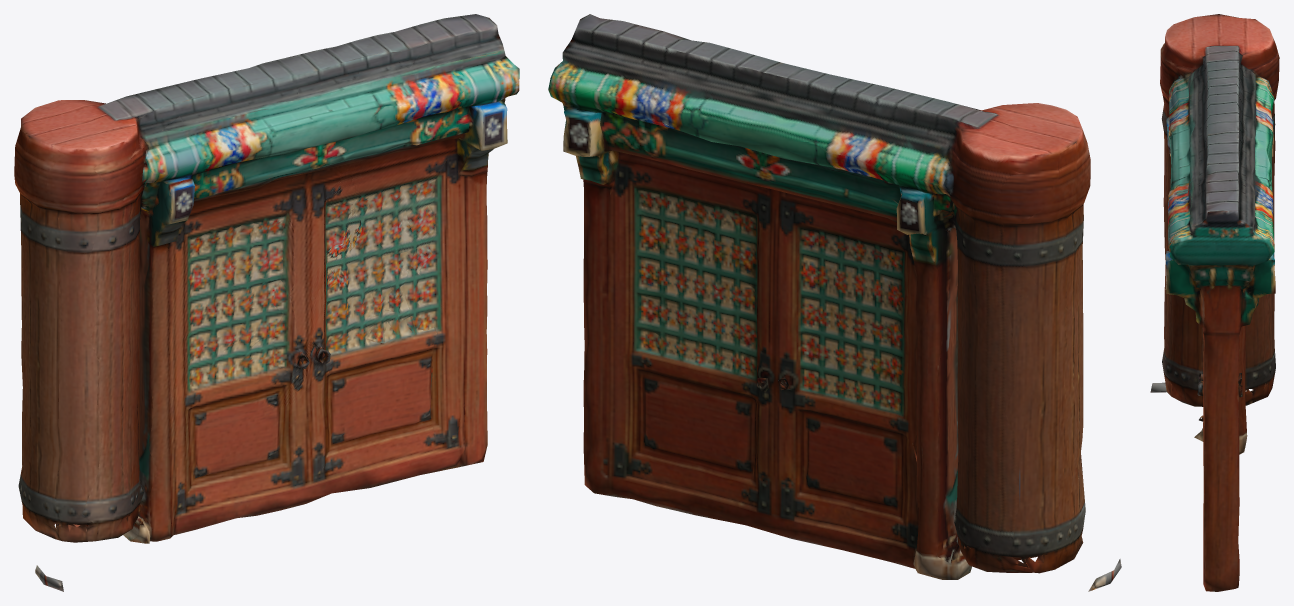
Rendered from 경복궁_문모듈.glb.
3 views of the same model, side by side, from view 1: azimuth 30°, elevation 25°; view 2: azimuth 150°, elevation 25°; view 3: azimuth 270°, elevation 25° (orthographic). The views are drawn at different scales.
Parts seen in each view (by area): view 1: texture_mapping; view 2: texture_mapping; view 3: texture_mapping.
Boxes of the visible parts, x1=… form: texture_mapping: x1=14, y1=14, x2=519, y2=591; texture_mapping: x1=548, y1=14, x2=1121, y2=591; texture_mapping: x1=1150, y1=14, x2=1279, y2=591.
Bounding box in the file's own units: 0.9994 × 0.878 × 0.2636.
Materials: 1 (1 with a texture image).
